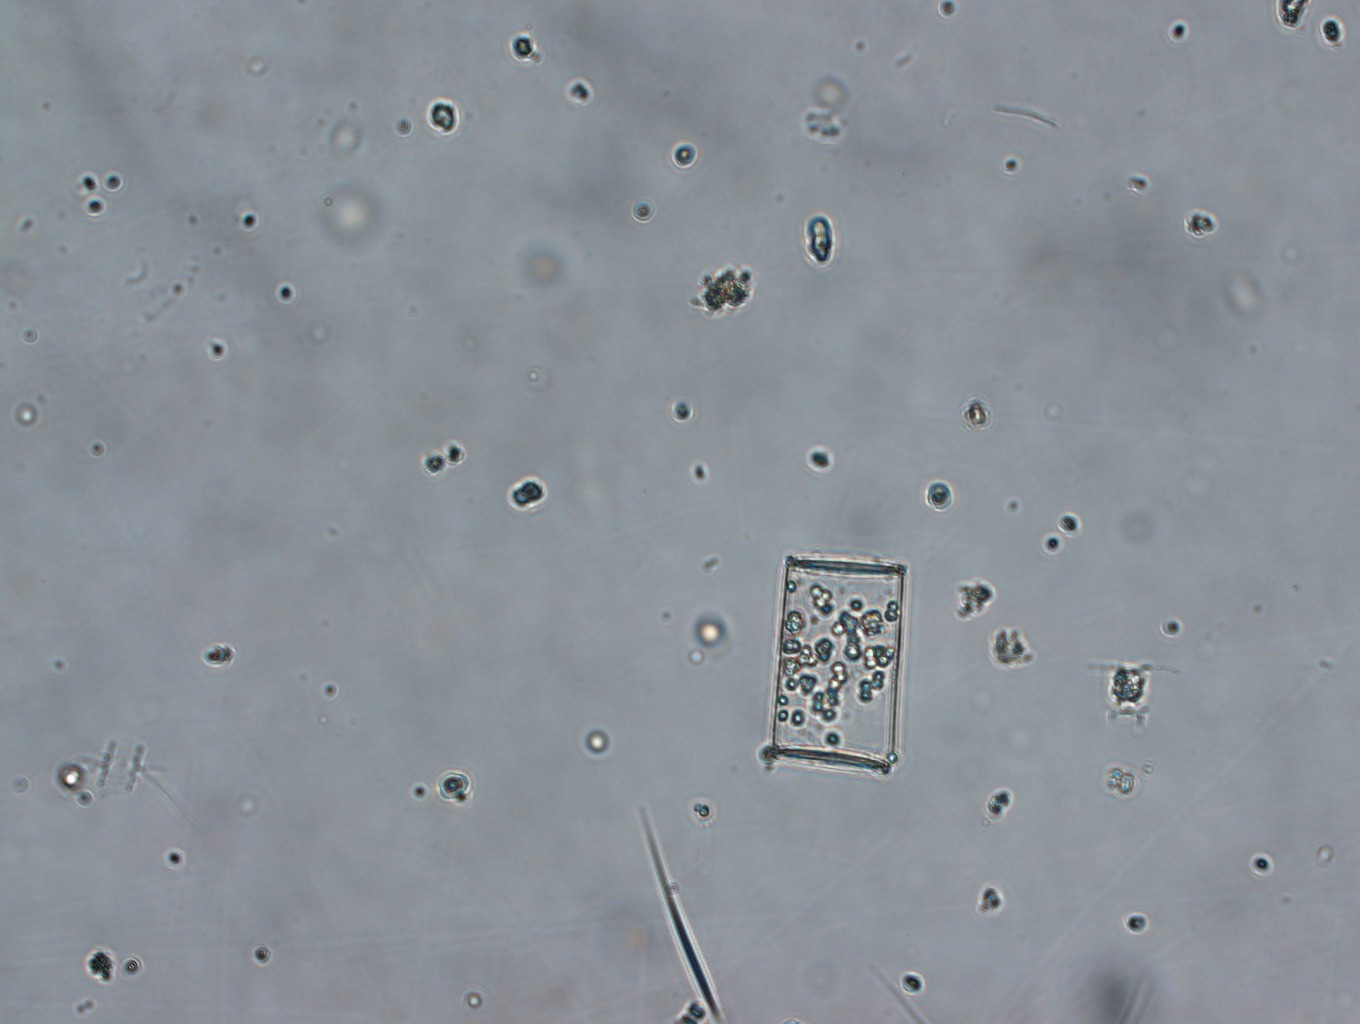guinardia flaccida: (762, 555, 907, 774)
